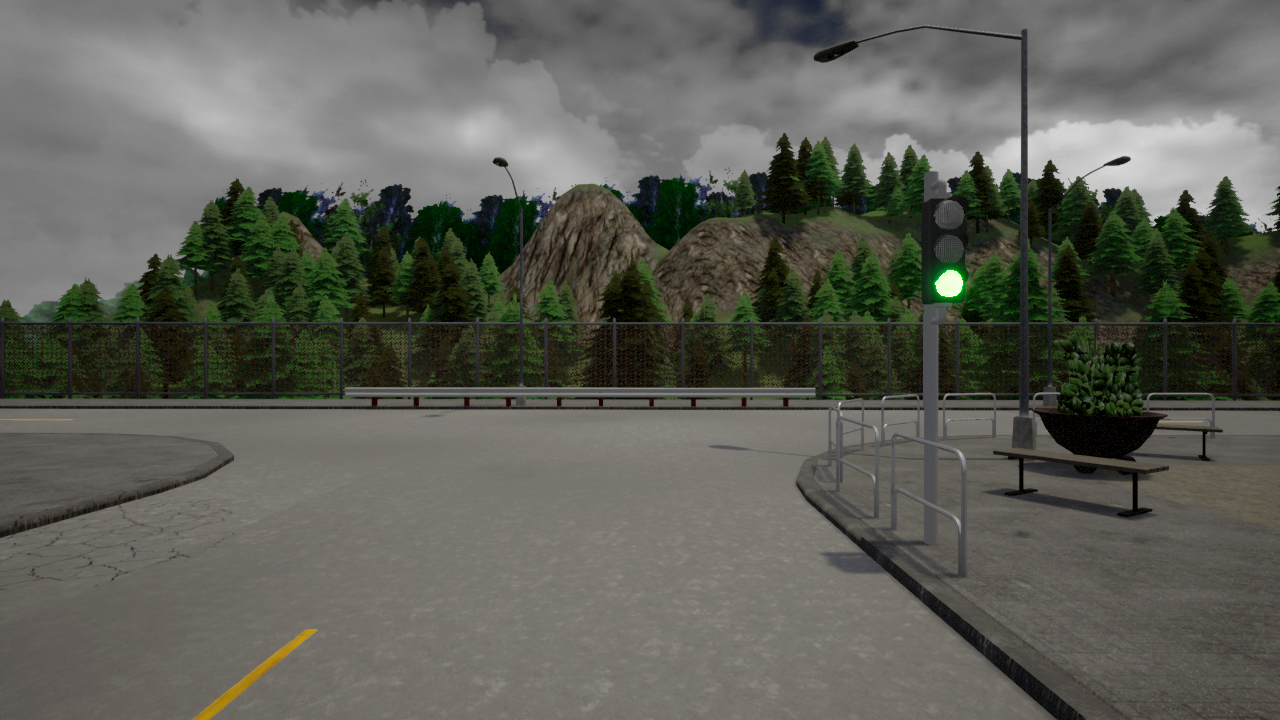green: (921, 191, 967, 301)
